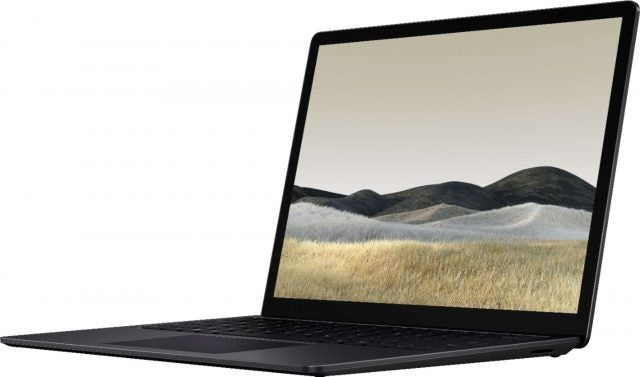laptop: (35, 13, 619, 377)
